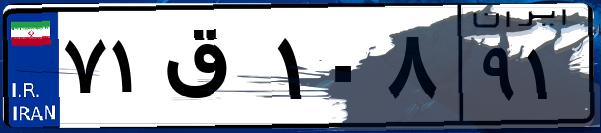0: (330, 28, 385, 110)
1: (270, 28, 330, 110), (525, 38, 570, 115), (110, 28, 158, 98)
7: (57, 26, 110, 100)
8: (385, 28, 445, 110)
9: (475, 38, 525, 113)
ق: (158, 20, 270, 120)
